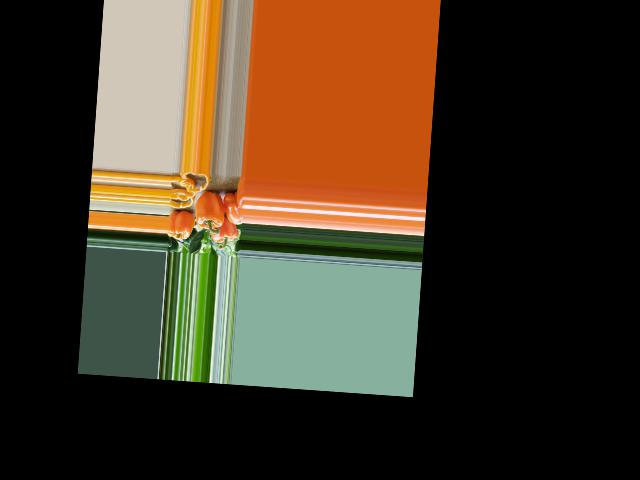bell_pepper: (222, 189, 244, 225)
